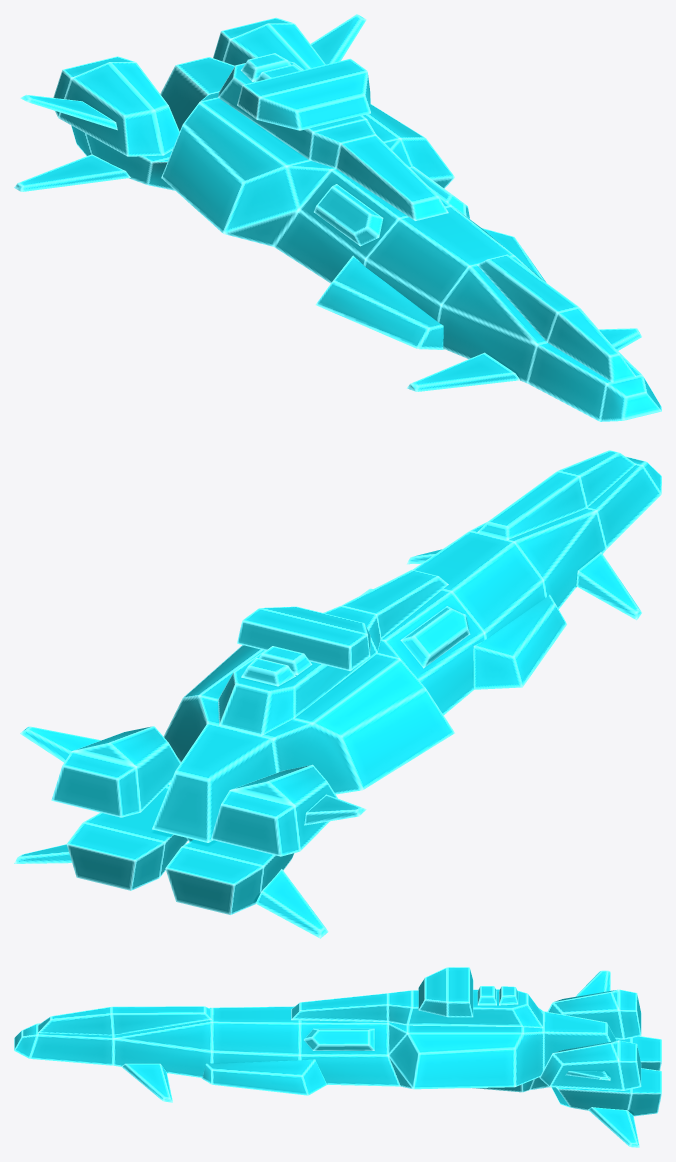
The model's file is ally_cruiser.FBX.
3 views of the same model, one above another, from view 1: azimuth 30°, elevation 25°; view 2: azimuth 150°, elevation 25°; view 3: azimuth 270°, elevation 25° (orthographic). The views are drawn at different scales.
Visible parts, largest first — view 1: Cruiser_player; view 2: Cruiser_player; view 3: Cruiser_player.
Part boxes in pixels (bbox=[...]): Cruiser_player: bbox=[14, 14, 661, 421]; Cruiser_player: bbox=[14, 450, 661, 938]; Cruiser_player: bbox=[14, 967, 661, 1147].
Size of the model in its own units: 92.9 by 45.42 by 233.
